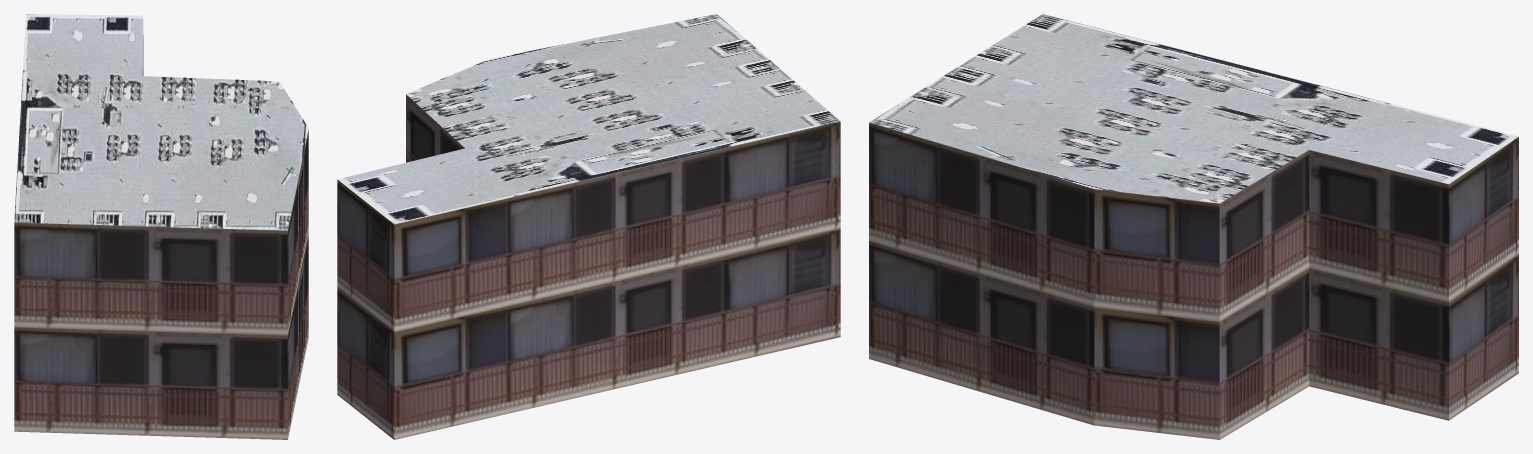
The model's file is ResTex__5273.fbx.
3 views of the same model, side by side, from view 1: azimuth 30°, elevation 25°; view 2: azimuth 150°, elevation 25°; view 3: azimuth 270°, elevation 25° (orthographic). The views are drawn at different scales.
Visible parts, largest first — view 1: CityEngineMaterial_6_m, CityEngineMaterial_2_m; view 2: CityEngineMaterial_6_m, CityEngineMaterial_2_m; view 3: CityEngineMaterial_6_m, CityEngineMaterial_2_m.
Part boxes in pixels (x1,y1,x2,y2): CityEngineMaterial_6_m: [14, 34, 308, 439]; CityEngineMaterial_2_m: [14, 14, 308, 230]; CityEngineMaterial_6_m: [337, 94, 840, 439]; CityEngineMaterial_2_m: [338, 14, 840, 224]; CityEngineMaterial_6_m: [869, 122, 1518, 439]; CityEngineMaterial_2_m: [869, 14, 1518, 203].
Bounding box in the file's own units: 10.31 × 6 × 14.95.
2 materials, 2 textured.
